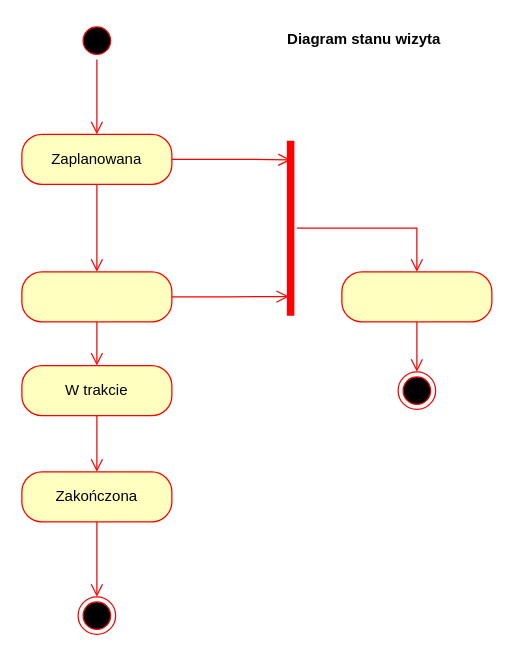
Some shapes in this 514 by 656 pixel diagram are drawn without their labels. The box of each missing label's shape, as (x1, y1, x2, y2) in pixels:
Anulowana: (341, 271, 492, 322)
Potwierdzona: (21, 271, 172, 322)
